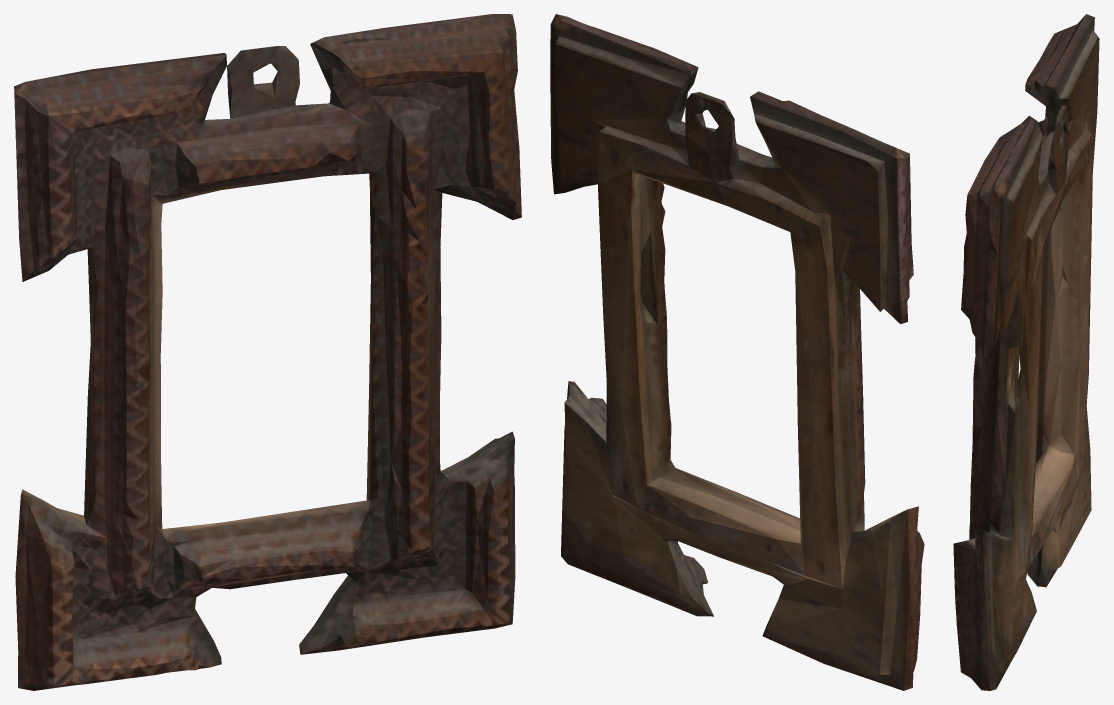
3 renders of one model, left to right at view 1: azimuth 30°, elevation 25°; view 2: azimuth 150°, elevation 25°; view 3: azimuth 270°, elevation 25°, orthographic. The views are drawn at different scales.
Visible parts, largest first — view 1: Bilderrahmen 2_2k_0.5k; view 2: Bilderrahmen 2_2k_0.5k; view 3: Bilderrahmen 2_2k_0.5k.
Boxes of the visible parts, x1,y1,x2,y2 form: Bilderrahmen 2_2k_0.5k: (14, 14, 521, 690); Bilderrahmen 2_2k_0.5k: (550, 14, 924, 690); Bilderrahmen 2_2k_0.5k: (953, 14, 1099, 690).
Size of the model in its own units: 0.1464 by 0.1885 by 0.0488.
Materials: 1 (1 with a texture image).
